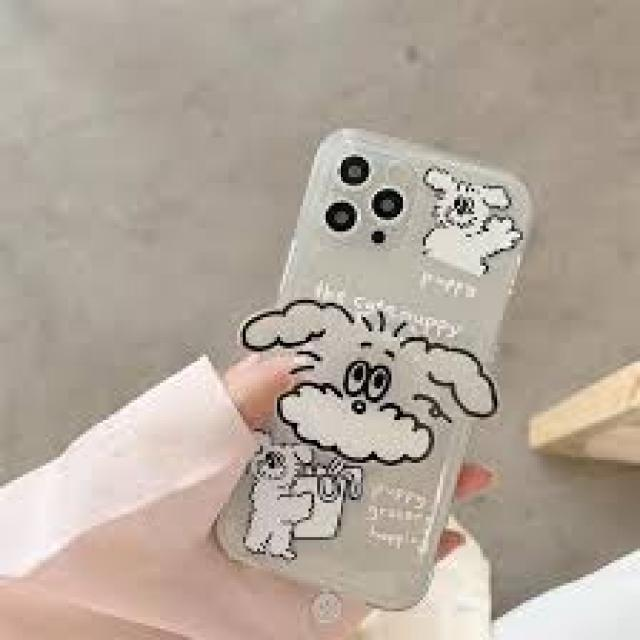lens: (316, 141, 427, 260)
phone: (215, 132, 532, 612)
